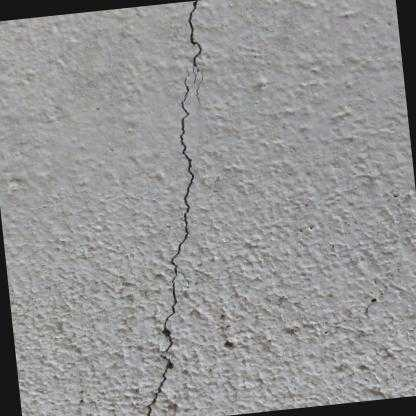crack: (142, 74, 195, 416), (186, 0, 203, 70)
